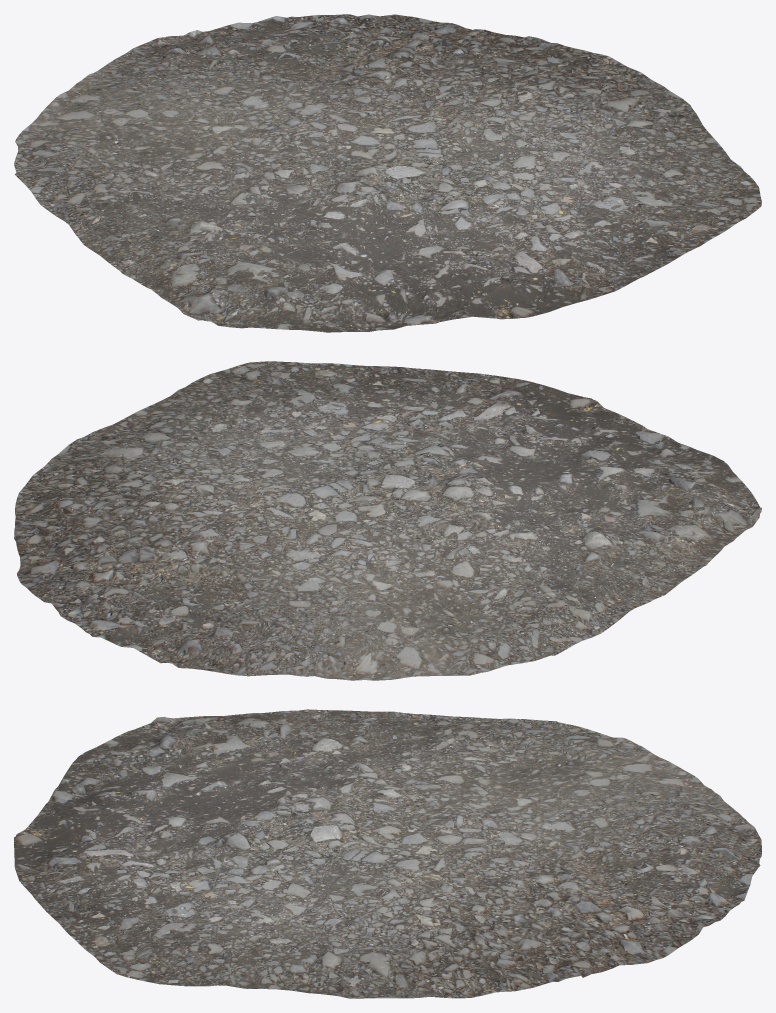
The model's file is earth circle MODELO3D.fbx.
3 views of the same model, one above another, from view 1: azimuth 30°, elevation 25°; view 2: azimuth 150°, elevation 25°; view 3: azimuth 270°, elevation 25° (orthographic).
Parts seen in each view (by area): view 1: Soil and rock surface; view 2: Soil and rock surface; view 3: Soil and rock surface.
Boxes of the visible parts, box(x1,y1,x2,y2) form: Soil and rock surface: box(14, 14, 761, 332); Soil and rock surface: box(14, 361, 761, 680); Soil and rock surface: box(14, 709, 761, 998).
Bounding box in the file's own units: 822 × 40.41 × 897.
Materials: 1 (1 with a texture image).
